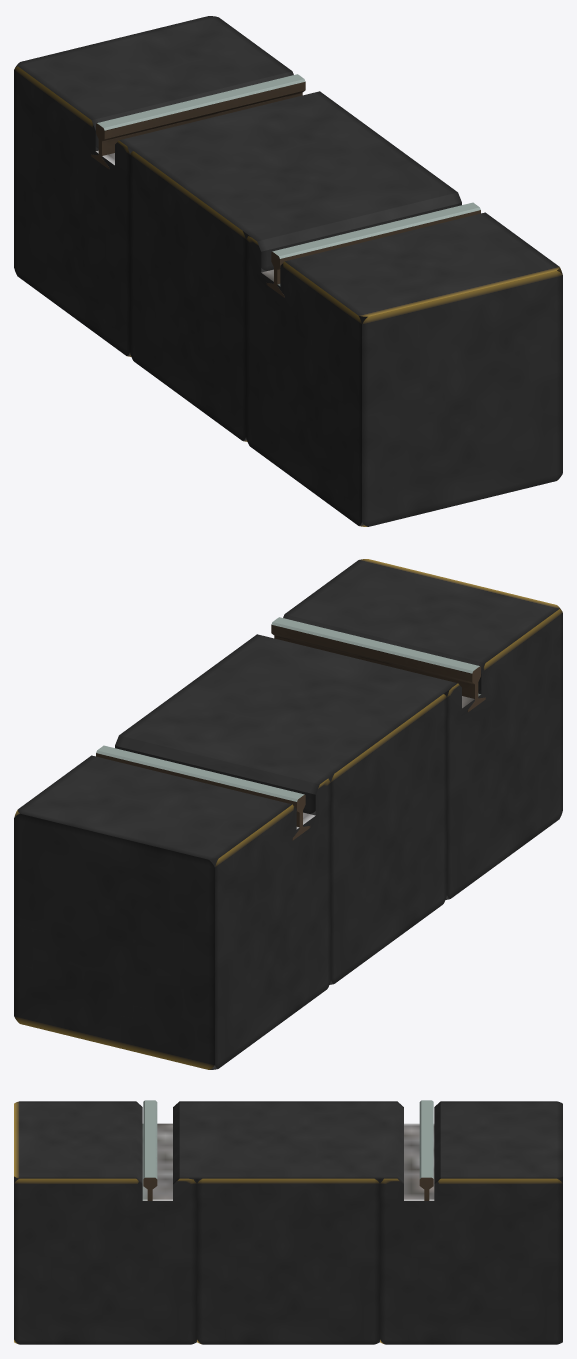
Rendered from spsf_street_running_asphalt.obj.
3 renders of one model, top to bottom at view 1: azimuth 30°, elevation 25°; view 2: azimuth 150°, elevation 25°; view 3: azimuth 270°, elevation 25°, orthographic. The views are drawn at different scales.
Parts seen in each view (by area): view 1: RAIL_BASE_Cube.001, RAIL_RIGHT_Cube.010, RAIL_LEFT_Cube.002; view 2: RAIL_BASE_Cube.001, RAIL_LEFT_Cube.002, RAIL_RIGHT_Cube.010; view 3: RAIL_BASE_Cube.001, RAIL_LEFT_Cube.002, RAIL_RIGHT_Cube.010.
Part boxes in pixels (left/top/right/bottom): RAIL_BASE_Cube.001: left=14, top=16, right=562, bottom=526; RAIL_RIGHT_Cube.010: left=91, top=74, right=305, bottom=168; RAIL_LEFT_Cube.002: left=266, top=202, right=480, bottom=297; RAIL_BASE_Cube.001: left=14, top=559, right=562, bottom=1069; RAIL_LEFT_Cube.002: left=271, top=617, right=485, bottom=711; RAIL_RIGHT_Cube.010: left=96, top=745, right=310, bottom=840; RAIL_BASE_Cube.001: left=14, top=1101, right=562, bottom=1344; RAIL_LEFT_Cube.002: left=143, top=1100, right=157, bottom=1200; RAIL_RIGHT_Cube.010: left=419, top=1100, right=433, bottom=1200.
Size of the model in its own units: 1 by 1.01 by 3.
1 material, 1 textured.
